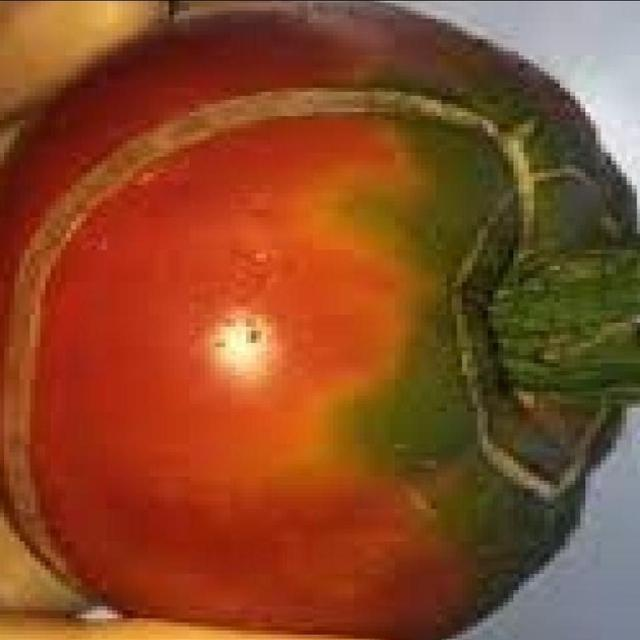Cracking Fruit: (112, 222, 376, 358)
